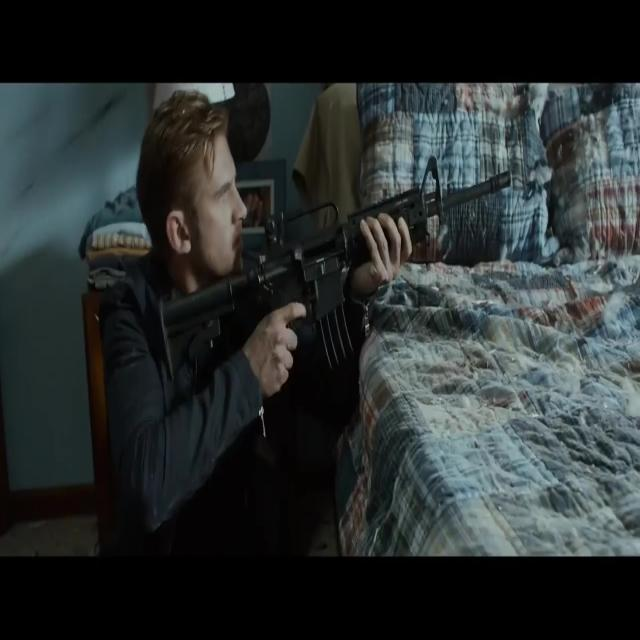Weapon: (123, 144, 552, 429)
